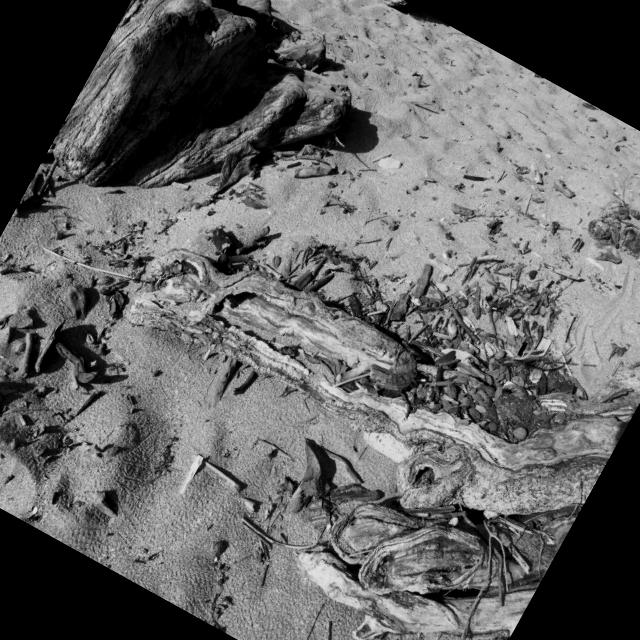Other plastic: (305, 500, 329, 525)
Other plastic bottle: (180, 455, 199, 493), (517, 343, 526, 357)
Unlabeled litter: (536, 337, 551, 356)
